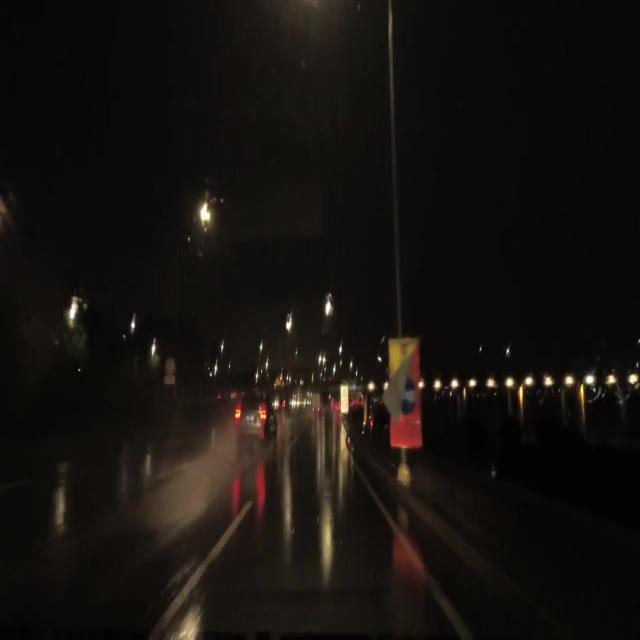Car: (234, 394, 278, 447)
